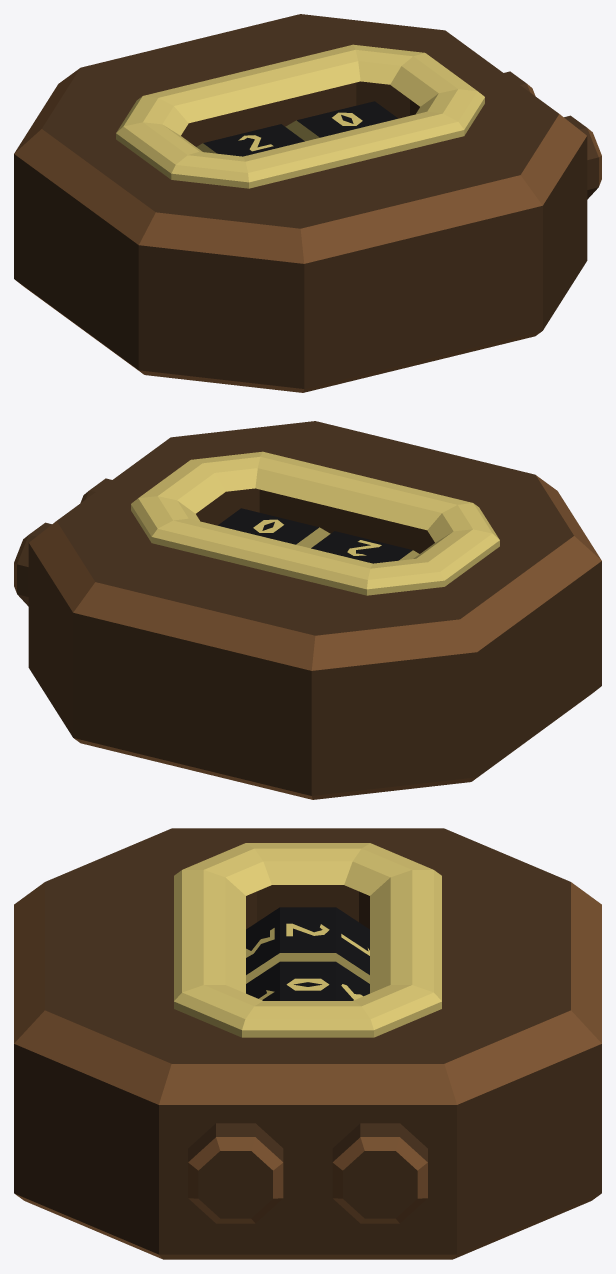
The model's file is hit-point-dial-1ea3bb.glb.
The picture shows the model from 3 angles, top to bottom: view 1: azimuth 30°, elevation 25°; view 2: azimuth 150°, elevation 25°; view 3: azimuth 270°, elevation 25°; orthographic projection. The views are drawn at different scales.
Visible parts, largest first — view 1: case, case-gold, drum-units, drum-tens, knob-units, drum-units-gold; view 2: case, case-gold, drum-units, drum-tens, knob-tens, drum-units-gold; view 3: case, case-gold, knob-tens, knob-units, drum-tens, drum-units, drum-tens-gold, drum-units-gold.
Part boxes in pixels (x1=…): case: x1=14, y1=14, x2=587, y2=392; case-gold: x1=116, y1=44, x2=484, y2=188; drum-units: x1=297, y1=101, x2=397, y2=137; drum-tens: x1=203, y1=124, x2=304, y2=156; knob-units: x1=564, y1=115, x2=601, y2=199; drum-units-gold: x1=285, y1=112, x2=362, y2=141; case: x1=28, y1=421, x2=601, y2=799; case-gold: x1=131, y1=451, x2=499, y2=595; drum-units: x1=218, y1=508, x2=318, y2=544; drum-tens: x1=311, y1=531, x2=412, y2=563; knob-tens: x1=14, y1=522, x2=51, y2=606; drum-units-gold: x1=253, y1=519, x2=330, y2=548; case: x1=14, y1=828, x2=601, y2=1259; case-gold: x1=174, y1=843, x2=441, y2=1037; knob-tens: x1=332, y1=1123, x2=427, y2=1223; knob-units: x1=188, y1=1123, x2=283, y2=1223; drum-tens: x1=246, y1=907, x2=369, y2=974; drum-units: x1=246, y1=961, x2=369, y2=1000; drum-tens-gold: x1=246, y1=923, x2=369, y2=983; drum-units-gold: x1=259, y1=978, x2=362, y2=999.
Bounding box in the file's own units: 0.0642 × 0.022 × 0.057.
